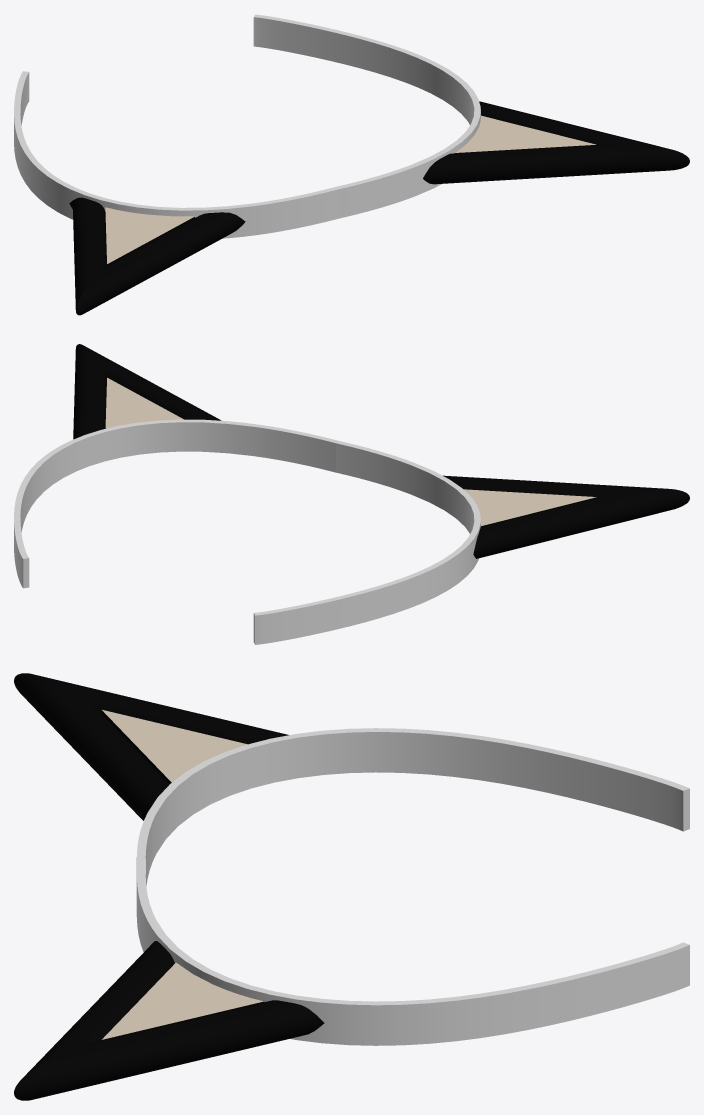
Rendered from CatEars.glb.
The picture shows the model from 3 angles, top to bottom: view 1: azimuth 30°, elevation 25°; view 2: azimuth 150°, elevation 25°; view 3: azimuth 270°, elevation 25°; orthographic projection. The views are drawn at different scales.
Bounding box in the file's own units: 27.78 × 1.27 × 19.18.
